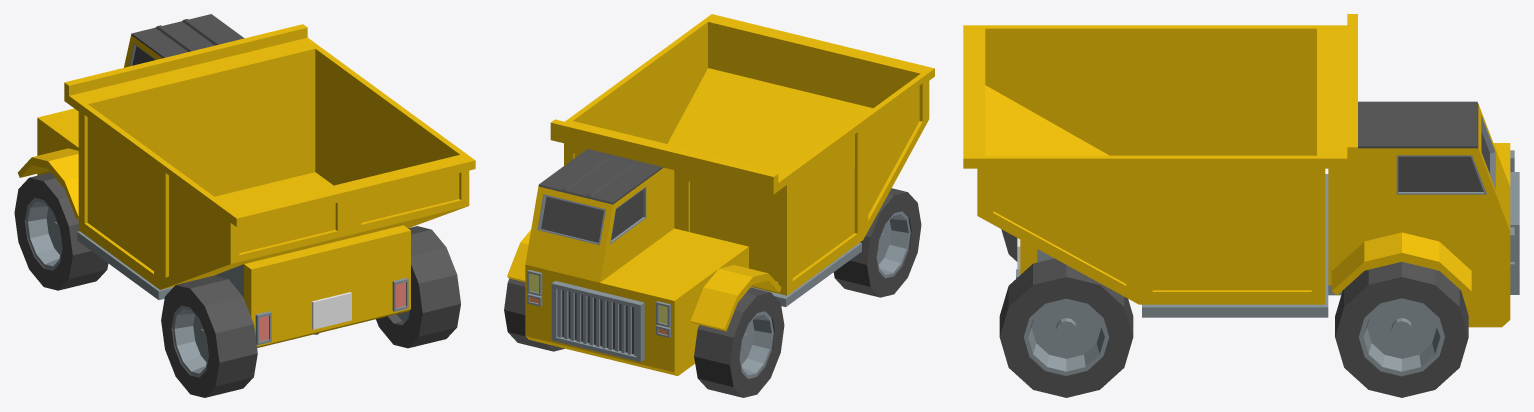
Rendered from pp-jeremy.glb.
3 views of the same model, side by side, from view 1: azimuth 30°, elevation 25°; view 2: azimuth 150°, elevation 25°; view 3: azimuth 270°, elevation 25° (orthographic). The views are drawn at different scales.
Parts seen in each view (by area): view 1: Dumptruck_01_Cube; view 2: Dumptruck_01_Cube; view 3: Dumptruck_01_Cube.
Part boxes in pixels (box(x1,y1,x2,y2)): Dumptruck_01_Cube: box(14, 14, 475, 397); Dumptruck_01_Cube: box(504, 14, 934, 397); Dumptruck_01_Cube: box(963, 14, 1519, 397).
Bounding box in the file's own units: 6.02 × 5.19 × 10.48.
Materials: 1 (1 with a texture image).
